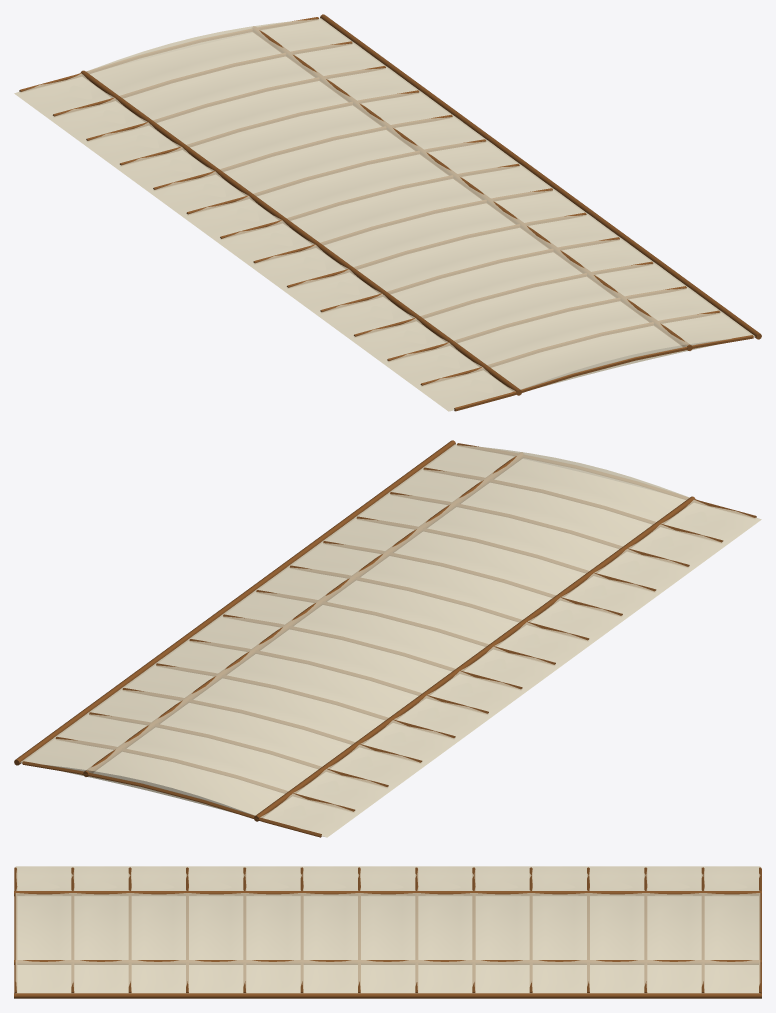
The model's file is aeroplan-krylo-nr.glb.
3 views of the same model, one above another, from view 1: azimuth 30°, elevation 25°; view 2: azimuth 150°, elevation 25°; view 3: azimuth 270°, elevation 25° (orthographic). The views are drawn at different scales.
Visible parts, largest first — view 1: aeroplan_krylo_nr; view 2: aeroplan_krylo_nr; view 3: aeroplan_krylo_nr.
Part boxes in pixels (left/top/right/bottom): aeroplan_krylo_nr: left=14, top=14, right=761, bottom=411; aeroplan_krylo_nr: left=14, top=440, right=761, bottom=837; aeroplan_krylo_nr: left=14, top=866, right=761, bottom=998.
Bounding box in the file's own units: 2.01 × 0.0922 × 4.87.
